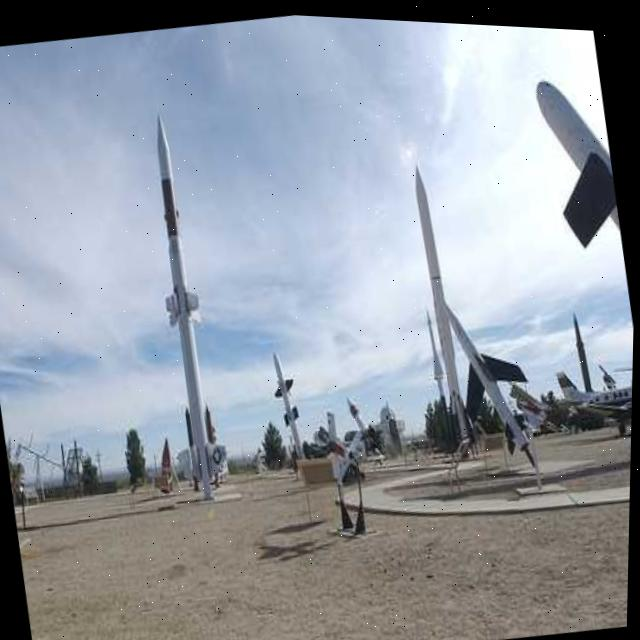missile: (132, 101, 245, 506)
